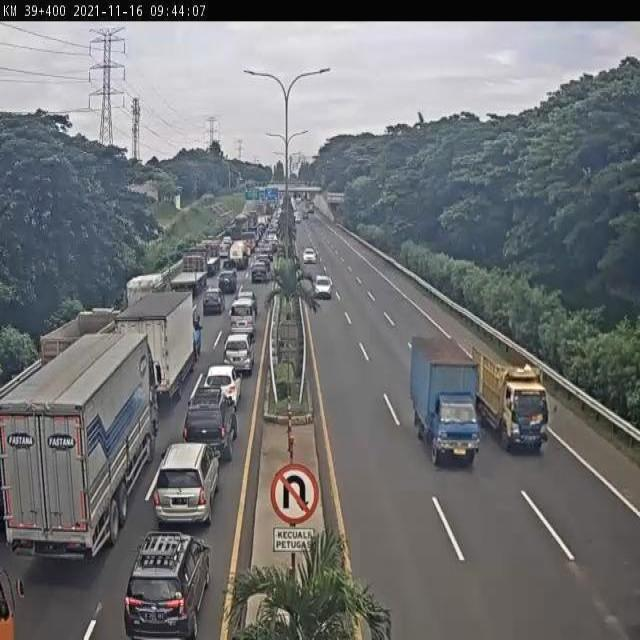Car: (123, 531, 210, 640), (152, 442, 220, 528), (183, 384, 239, 462), (202, 364, 242, 410), (222, 332, 255, 378), (228, 308, 256, 339), (233, 288, 258, 318), (202, 287, 225, 315), (218, 267, 238, 293), (313, 274, 333, 300), (251, 261, 270, 283), (302, 248, 316, 264)
Truck: (0, 333, 165, 564), (119, 292, 204, 412), (410, 338, 481, 466), (470, 342, 548, 453), (39, 310, 119, 368), (126, 273, 165, 306), (170, 271, 206, 299), (202, 240, 222, 272), (190, 243, 212, 271), (229, 240, 250, 269)
